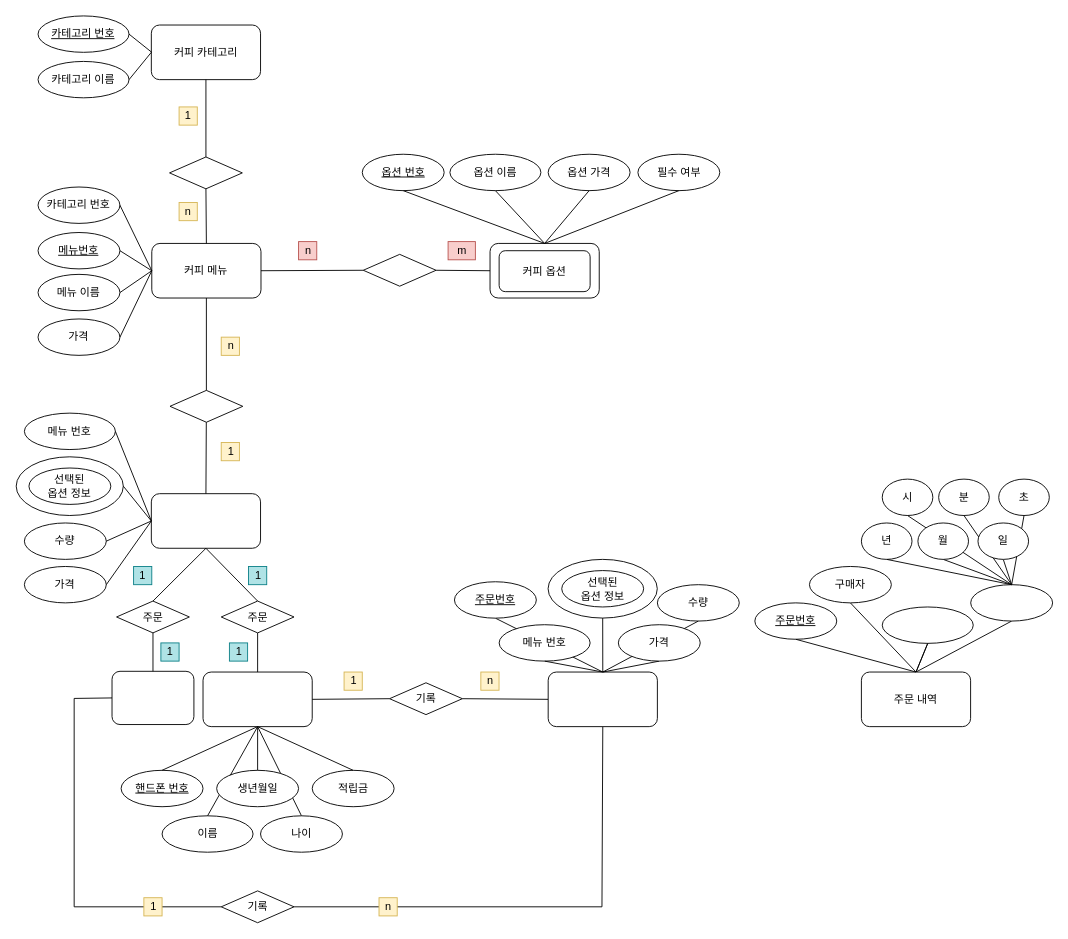
Some shapes in this 1068 by 939 pixel diagram are drawn without their labels. Here are the shapes that lost their labels. From the top down, the box of each, then its label:
(169, 156, 242, 189): 소속
(362, 253, 436, 286): 부여
(169, 389, 243, 422): 담기
(150, 493, 261, 548): 장바구니
(970, 584, 1053, 621): 주문날짜
(881, 606, 973, 643): 총 가격
(111, 670, 194, 725): 비회원
(202, 671, 312, 727): 멤버십 회원
(547, 671, 657, 727): 주문 상세
